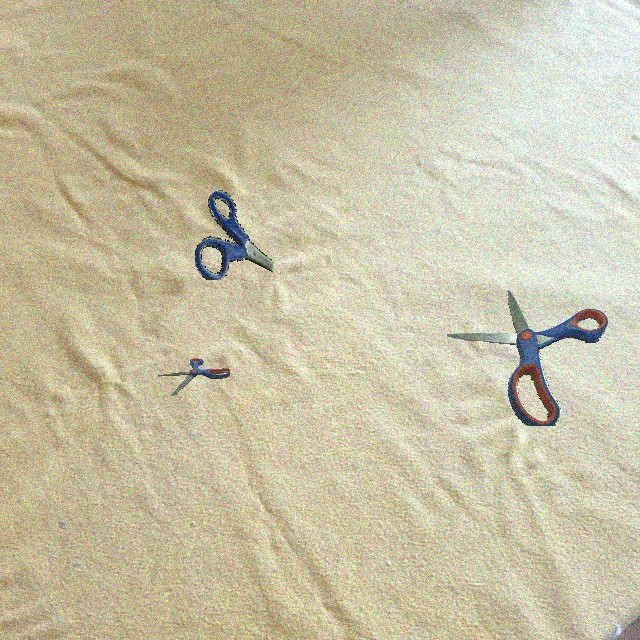scissors: (447, 289, 608, 426), (195, 190, 274, 280), (158, 358, 230, 396)
